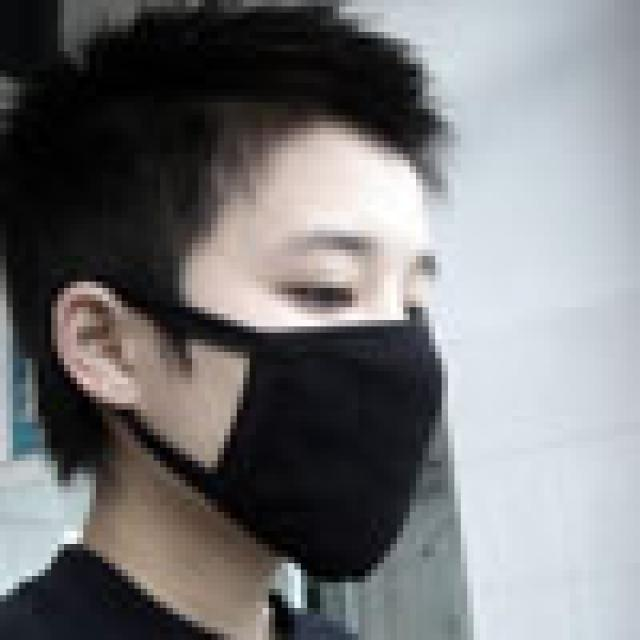mask: (147, 125, 442, 528)
